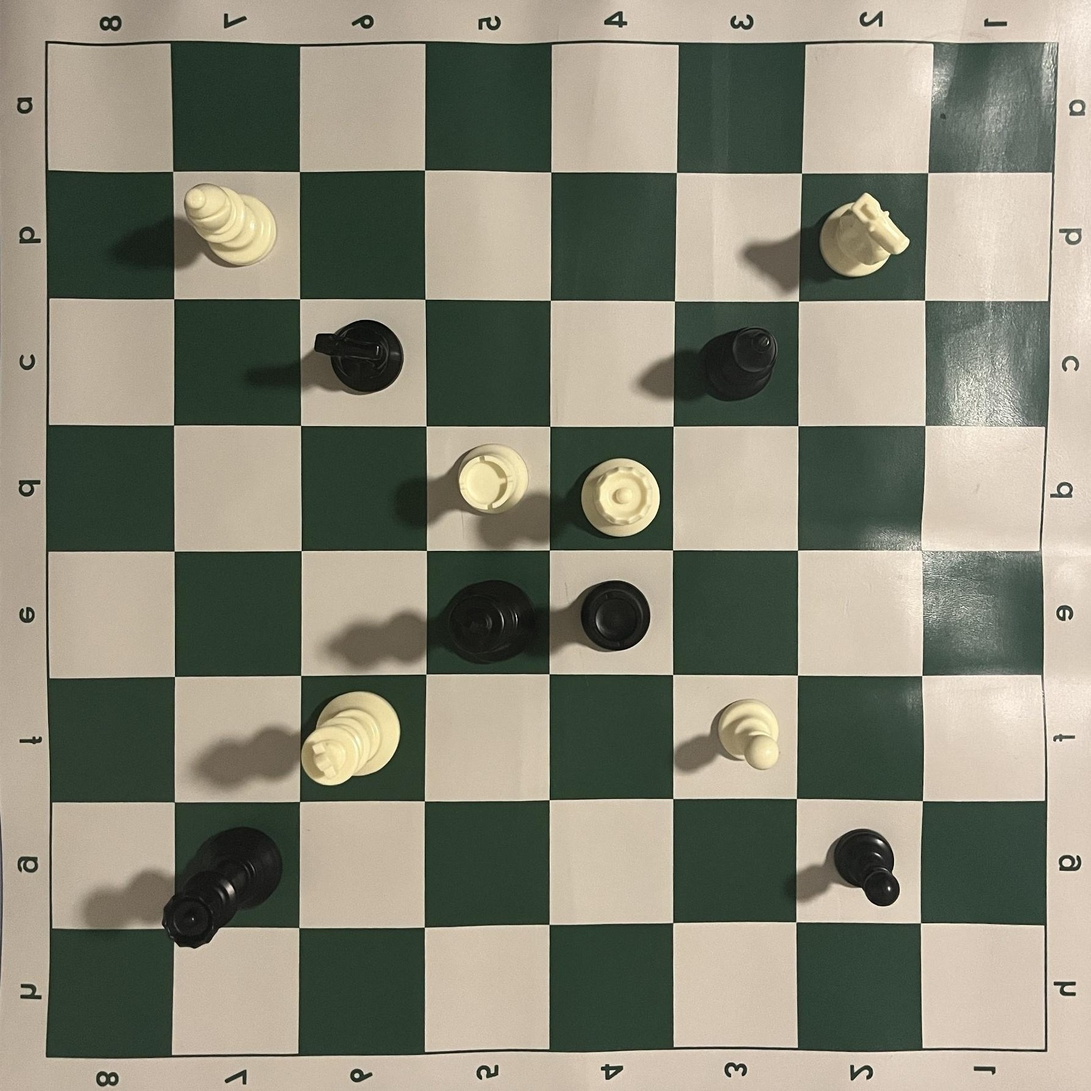black_bishop: (700, 327, 780, 403)
black_king: (444, 579, 538, 664)
black_knight: (314, 320, 404, 394)
black_pawn: (833, 827, 901, 908)
black_queen: (160, 825, 285, 950)
black_rook: (580, 579, 651, 654)
white_bishop: (183, 183, 278, 268)
white_king: (300, 690, 403, 787)
white_knight: (819, 192, 911, 278)
white_pawn: (717, 698, 781, 771)
white_queen: (581, 457, 662, 539)
white_rook: (457, 442, 530, 517)
